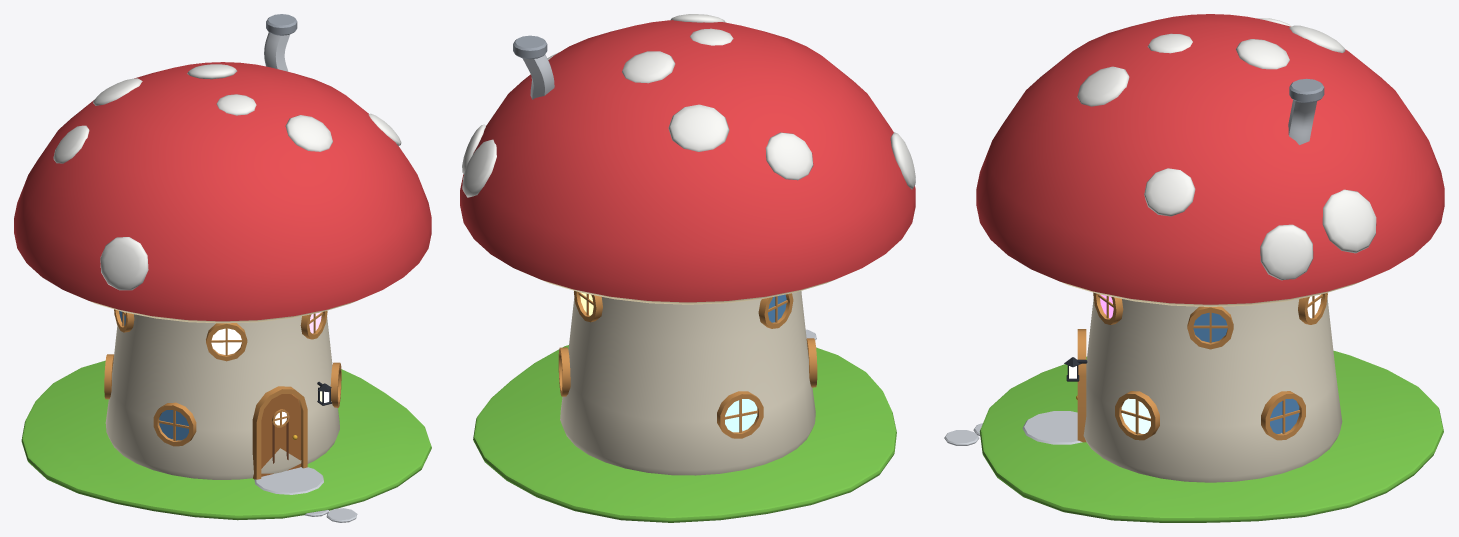
The model's file is casa_cogumelo_vermelho.glb.
3 renders of one model, left to right at view 1: azimuth 30°, elevation 25°; view 2: azimuth 150°, elevation 25°; view 3: azimuth 270°, elevation 25°, orthographic. The views are drawn at different scales.
Visible parts, largest first — view 1: casa_cogumelo_vermelho; view 2: casa_cogumelo_vermelho; view 3: casa_cogumelo_vermelho.
Boxes of the visible parts, left/top/right/bottom form: casa_cogumelo_vermelho: left=14, top=14, right=431, bottom=522; casa_cogumelo_vermelho: left=460, top=14, right=915, bottom=522; casa_cogumelo_vermelho: left=944, top=14, right=1444, bottom=522.
Bounding box in the file's own units: 11.2 × 10.7 × 11.97.
7 materials, 1 textured.
